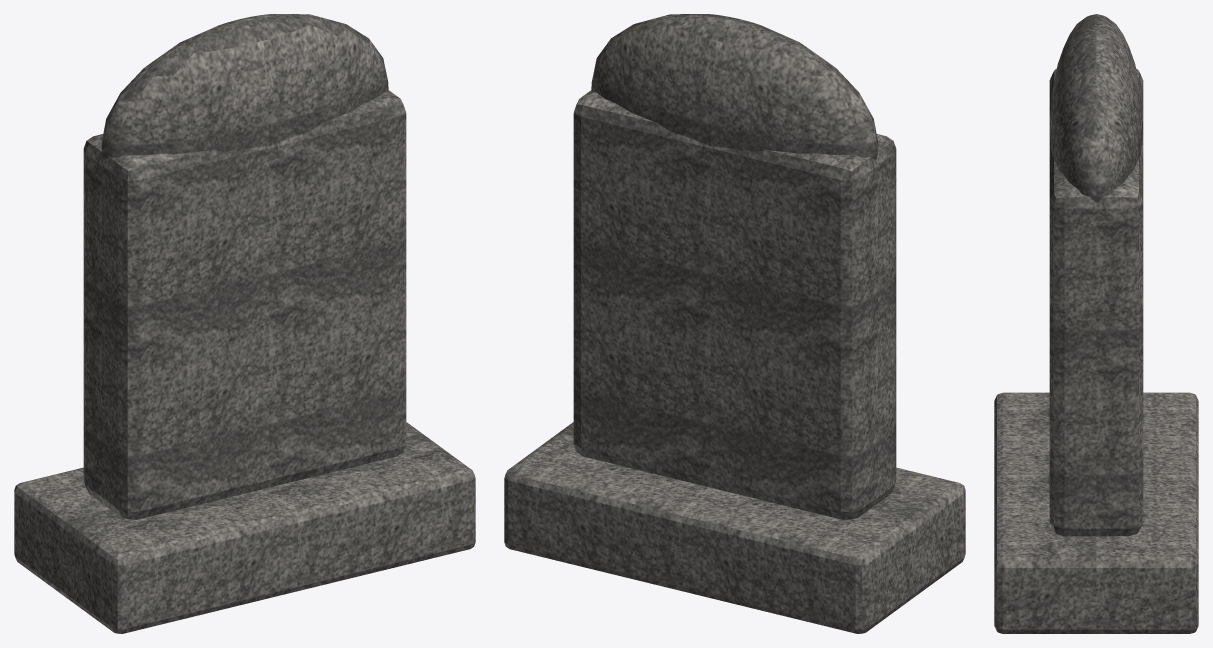
The model's file is headstone-arched.glb.
3 renders of one model, left to right at view 1: azimuth 30°, elevation 25°; view 2: azimuth 150°, elevation 25°; view 3: azimuth 270°, elevation 25°, orthographic. The views are drawn at different scales.
Parts seen in each view (by area): view 1: headstone-arched; view 2: headstone-arched; view 3: headstone-arched.
Boxes of the visible parts, left/top/right/bottom form: headstone-arched: left=14, top=14, right=475, bottom=633; headstone-arched: left=504, top=14, right=965, bottom=633; headstone-arched: left=994, top=14, right=1198, bottom=633.
Size of the model in its own units: 0.95 by 1.34 by 0.48.
1 material, 1 textured.
